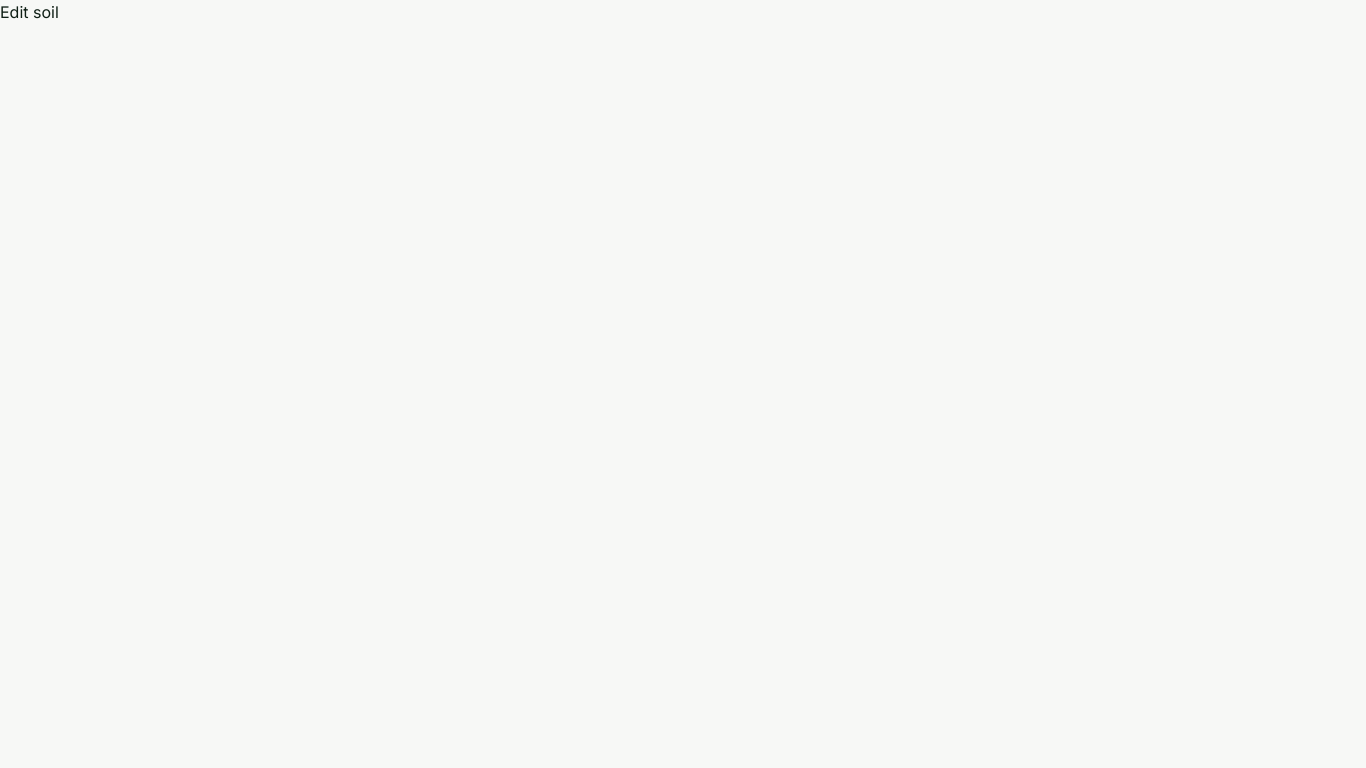
soil editor freshness › shows a retry action and keeps saving disabled after a failed read
This screenshot has width=1366, height=768.
Click the button "Edit soil" at (29, 12), box [0, 0, 59, 24]
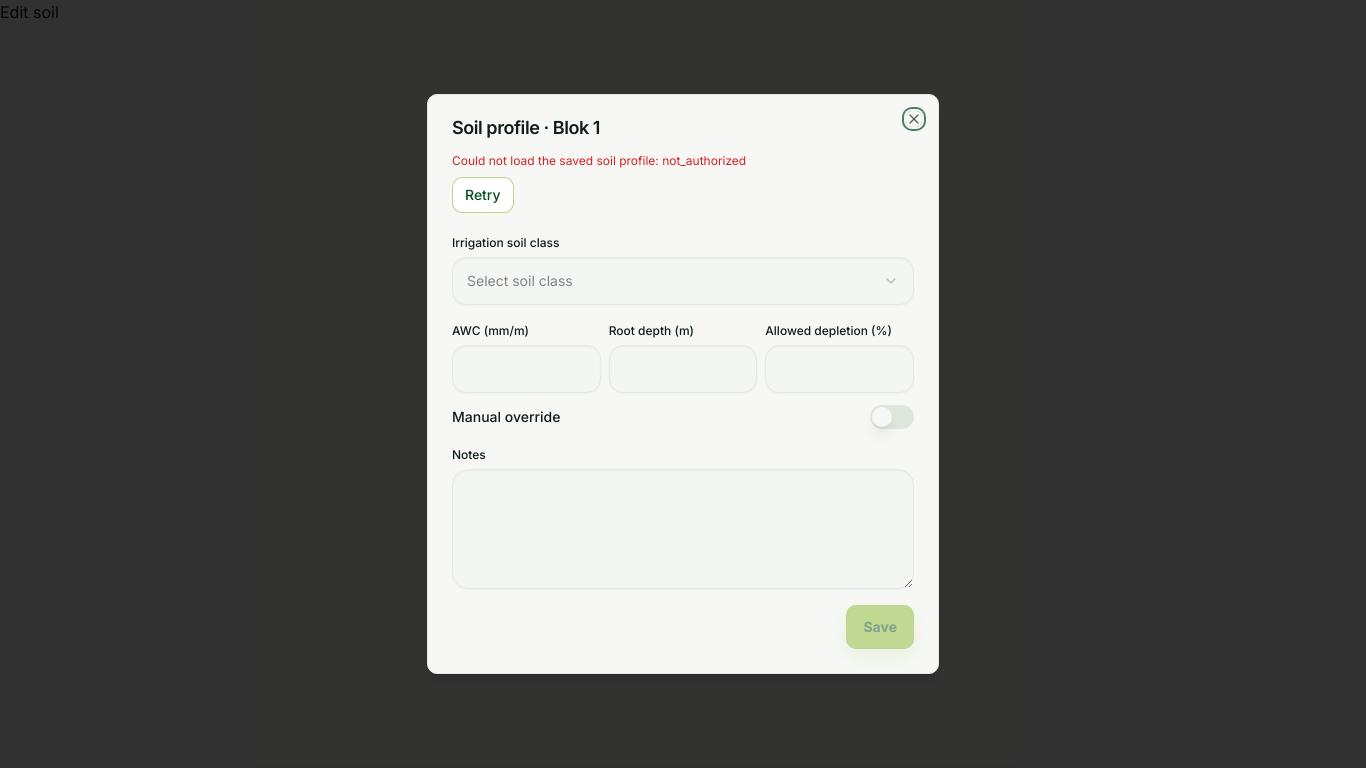
expect the text "Could not load the saved soil profile: not_authorized" is shown: met, box [452, 153, 746, 168]
expect the button "Retry" is shown: met, box [452, 177, 514, 213]
expect the button "Save" is disabled: met, box [846, 605, 914, 649]
